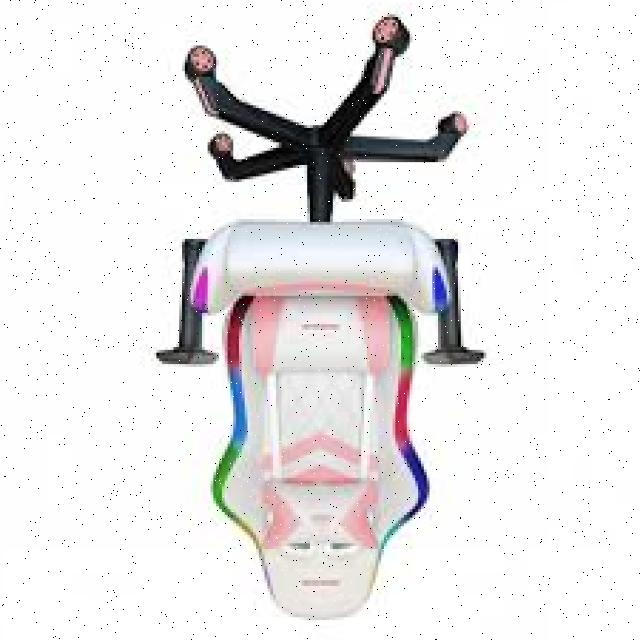bottle: (155, 13, 484, 624)
